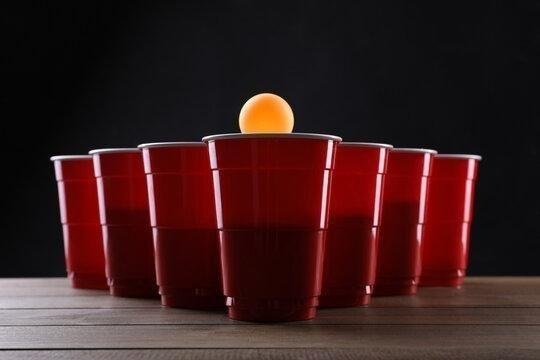cup-disposable: (203, 127, 342, 325), (138, 137, 223, 308), (312, 135, 393, 306), (89, 143, 157, 298), (372, 142, 436, 295), (417, 147, 483, 290), (49, 150, 107, 290)
